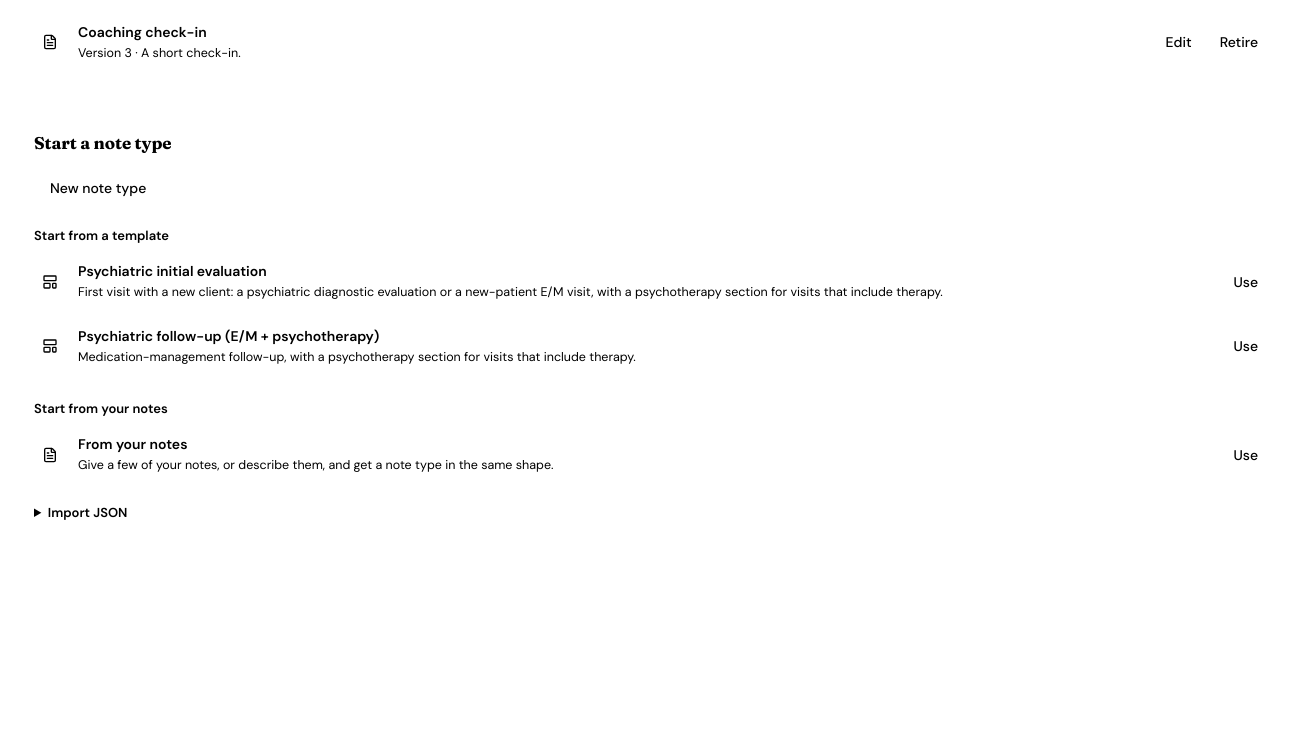
Scenario: NoteTypesPage editor › shows the server's message next to the field it names
The image size is (1292, 752).
Click the button with aria-label "Edit Coaching check-in".
click(1179, 42)  # box [1154,26,1204,58]
(page scrolled)
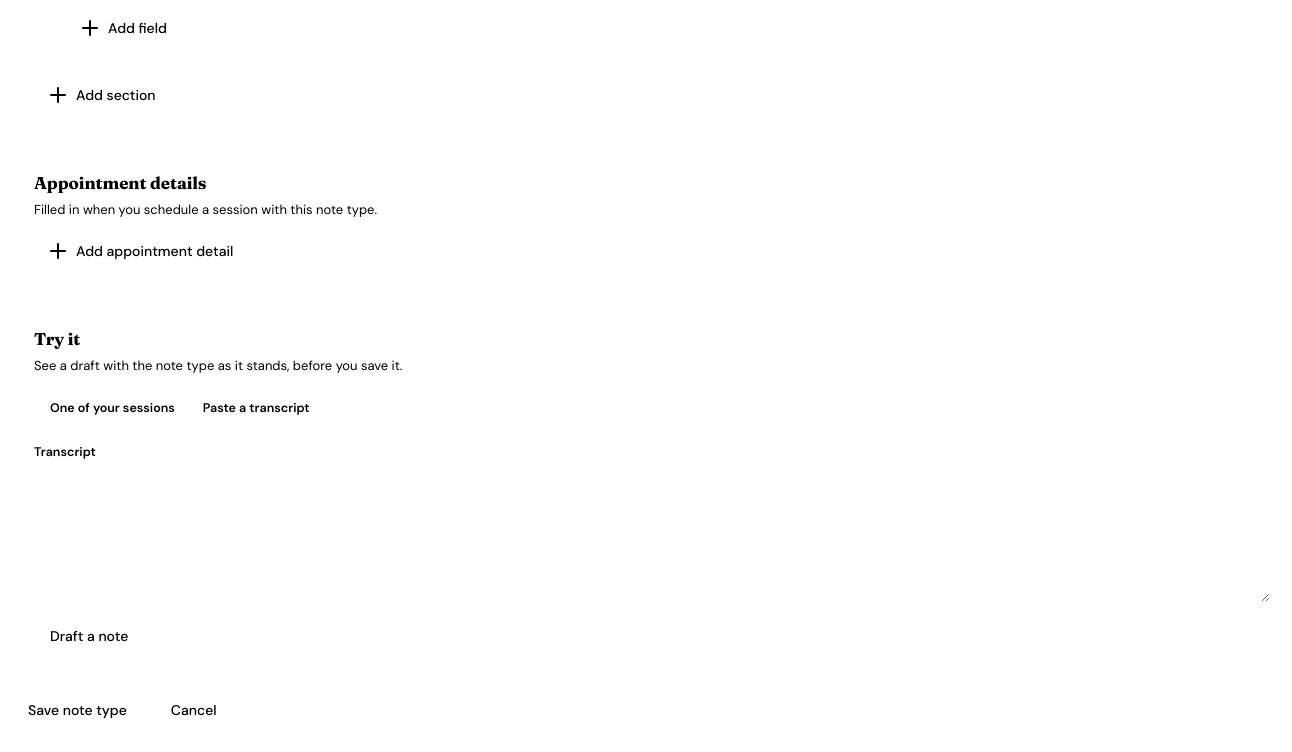
Click the button "Save note type".
click(77, 710)  # box [12,692,143,728]
(page scrolled)
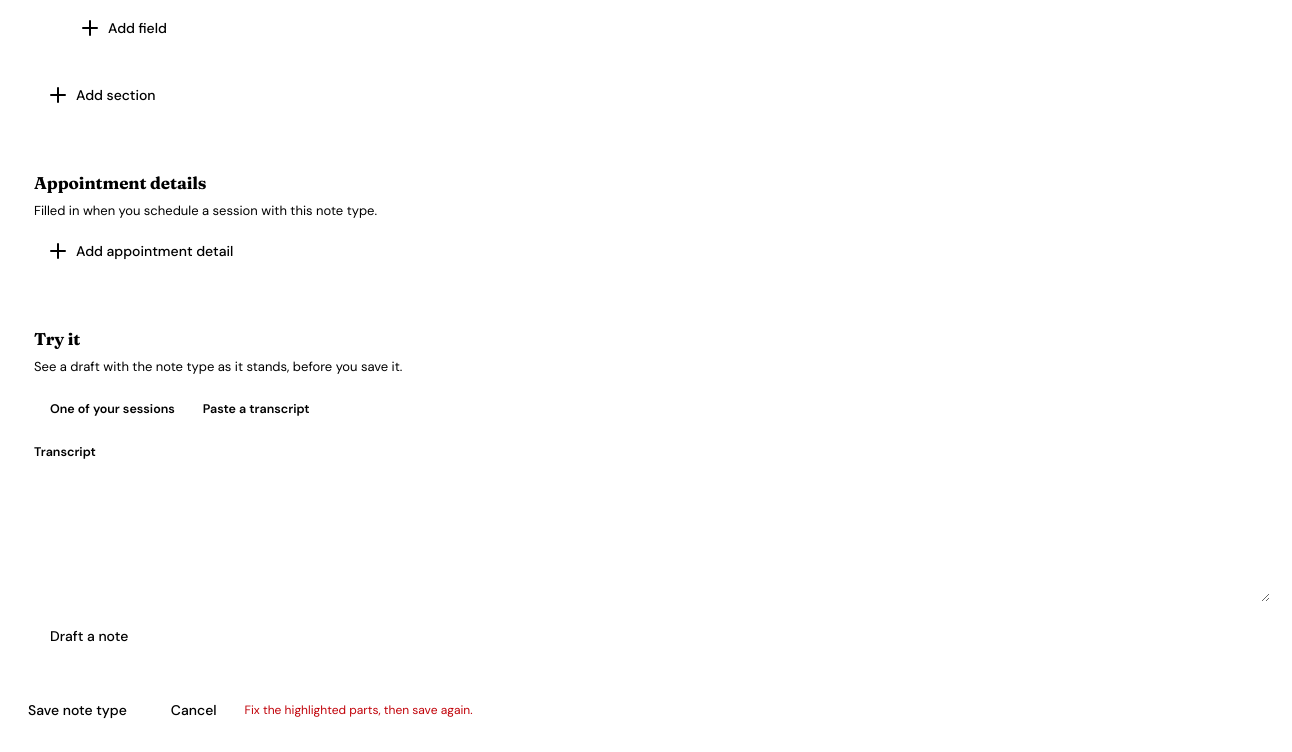
Expected: the message shows "Fix the highlighted parts", [245,702,473,718]
